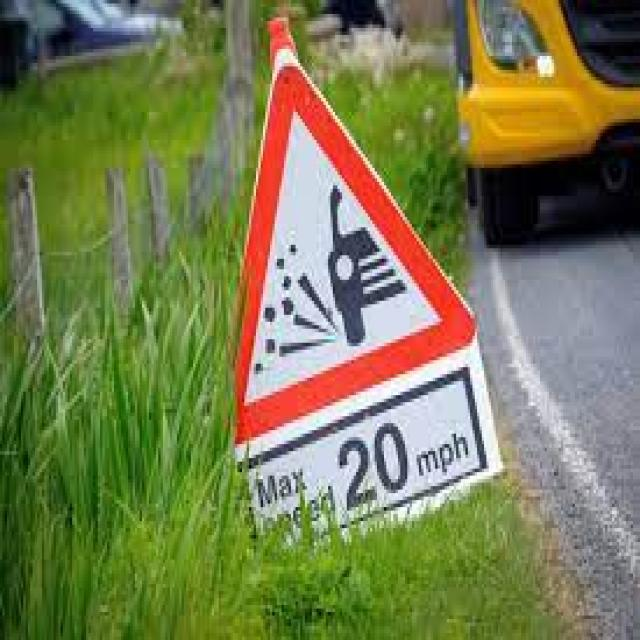loose gravel: (221, 56, 473, 447)
